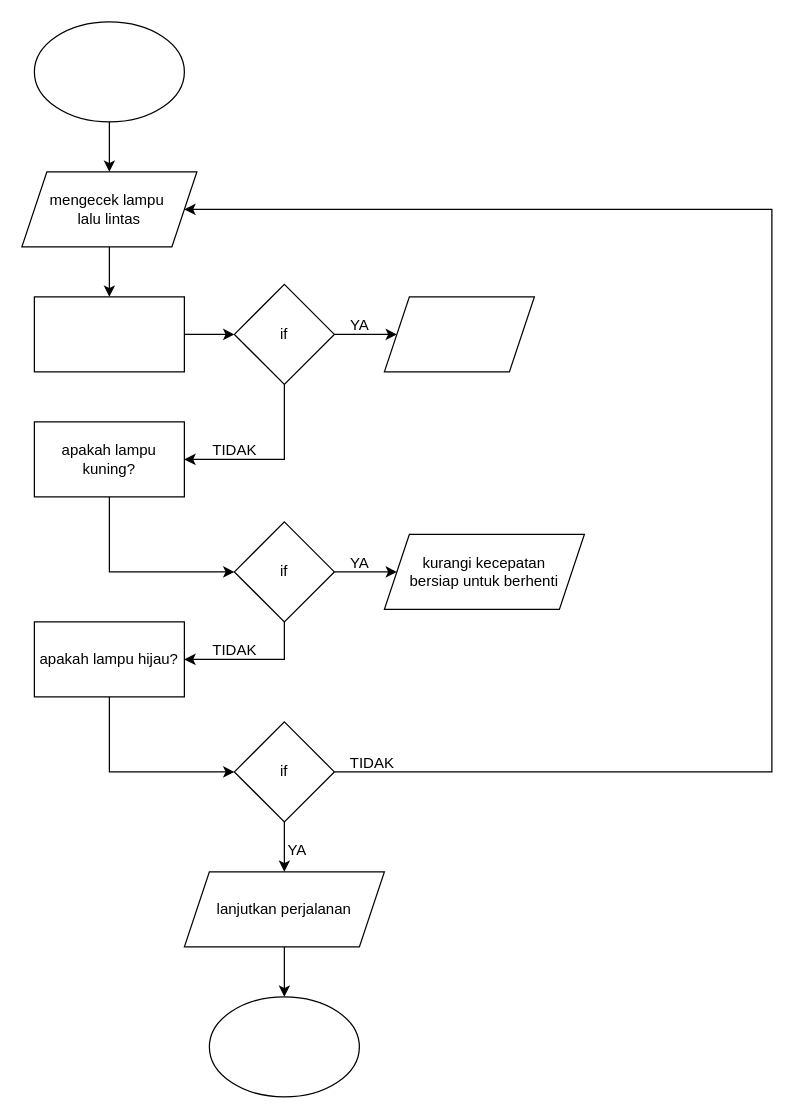
This 804x1119 diagram has some shape labels left out. Each missing label, with the box of its shape:
apakah lampu merah?: (33, 296, 184, 372)
berhenti: (383, 296, 534, 372)
mulai: (33, 21, 184, 122)
selesai: (208, 996, 359, 1097)
